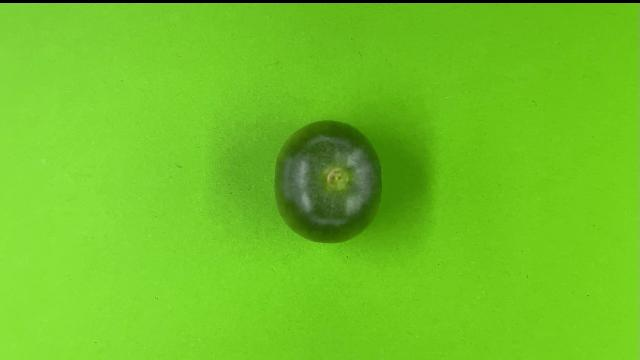Fruit Maturation: (272, 119, 383, 243)
